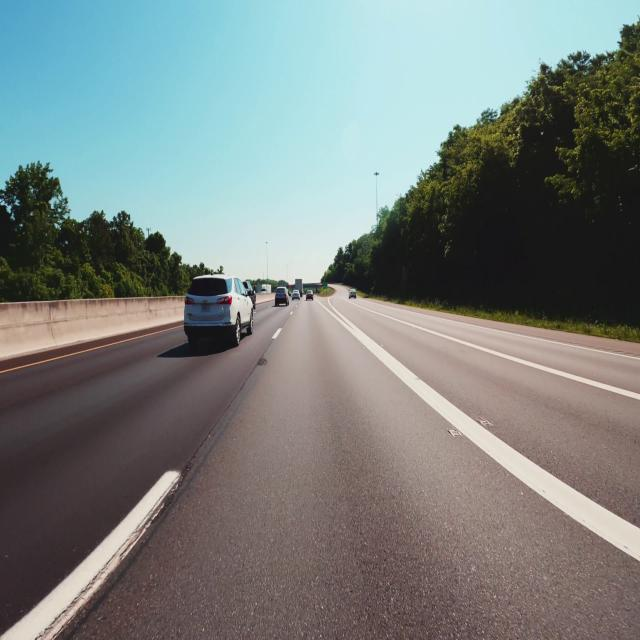car: (184, 275, 253, 351), (242, 281, 256, 309), (275, 286, 289, 306), (292, 290, 300, 300), (306, 290, 313, 300), (349, 289, 356, 298)
